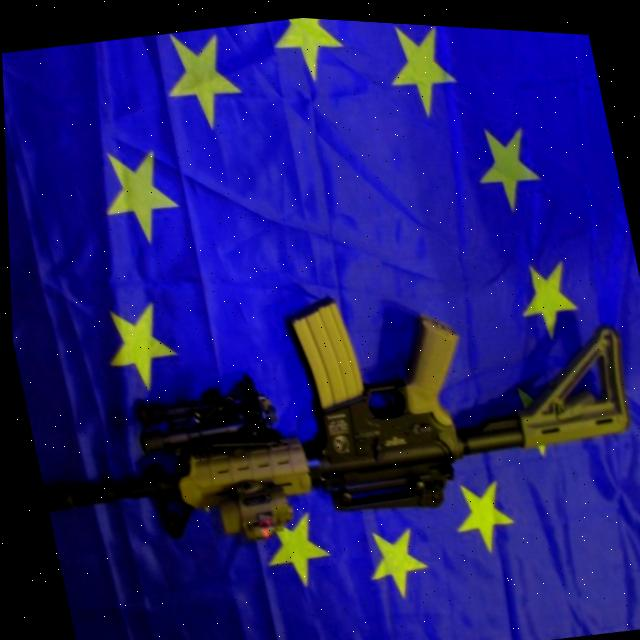firearm: (7, 233, 640, 590)
